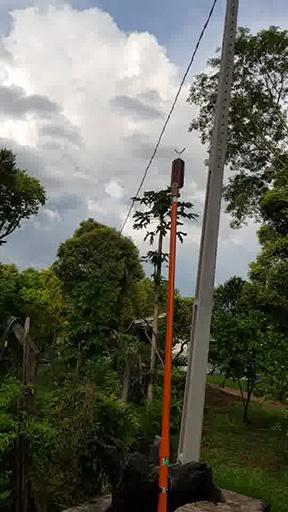Detector_Tensao_Contato: (170, 147, 188, 190)
Vara_Manobra: (157, 188, 179, 512)
